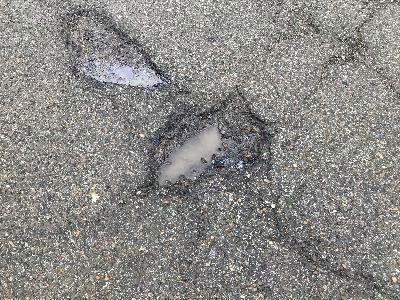pothole: (137, 84, 275, 198), (56, 4, 169, 89)
